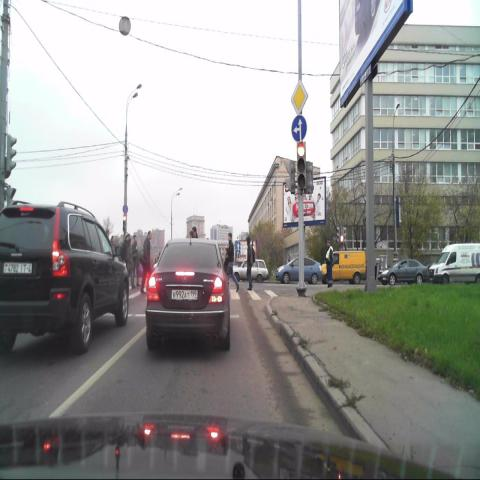4_1_5: (292, 115, 308, 143)
